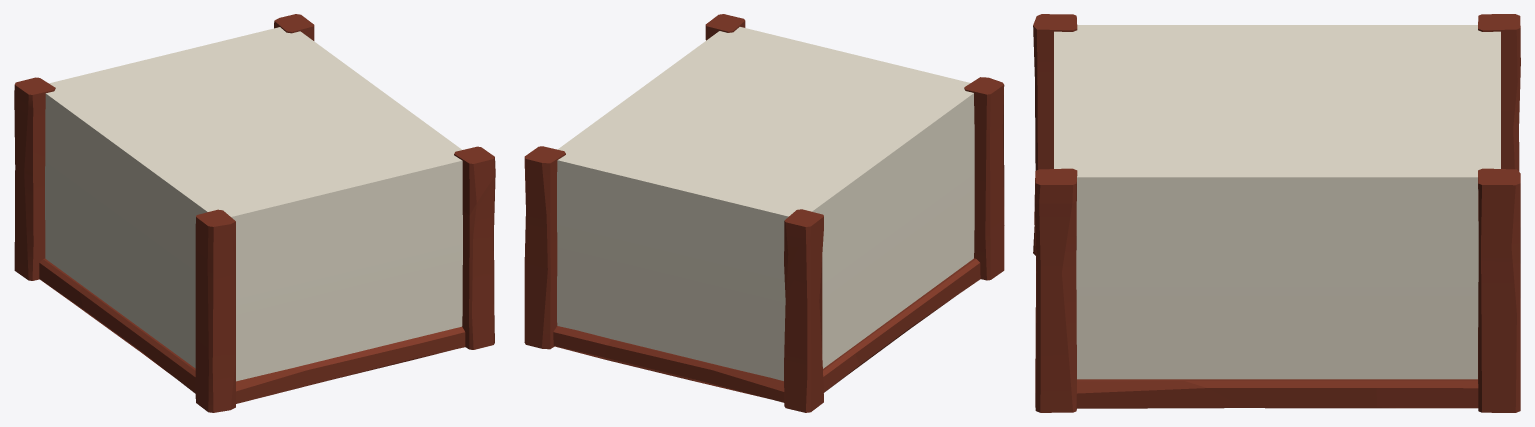
File: House_2Floor_A.fbx
3 renders of one model, left to right at view 1: azimuth 30°, elevation 25°; view 2: azimuth 150°, elevation 25°; view 3: azimuth 270°, elevation 25°, orthographic. The views are drawn at different scales.
Visible parts, largest first — view 1: House_2Floor_A; view 2: House_2Floor_A; view 3: House_2Floor_A.
Boxes of the visible parts, x1,y1,x2,y2 form: House_2Floor_A: (14, 14, 495, 412); House_2Floor_A: (524, 14, 1004, 412); House_2Floor_A: (1033, 14, 1520, 412).
Bounding box in the file's own units: 387 × 244 × 466.
